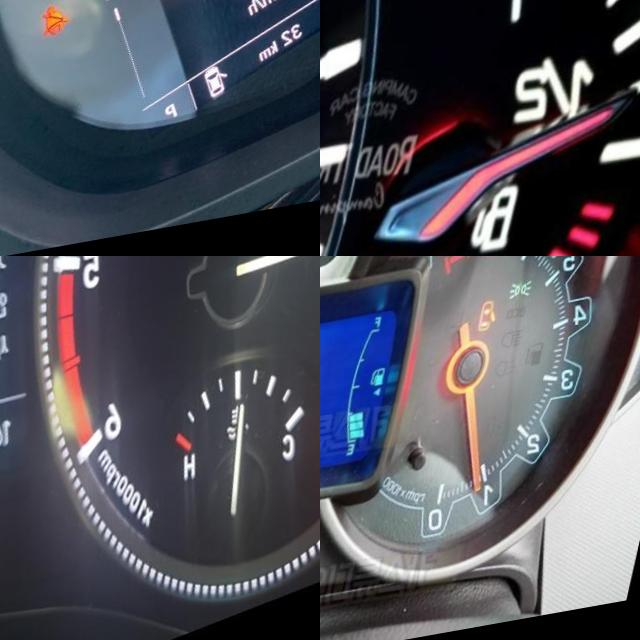Doors: (491, 313, 514, 347)
SideLamp: (523, 293, 548, 316)
